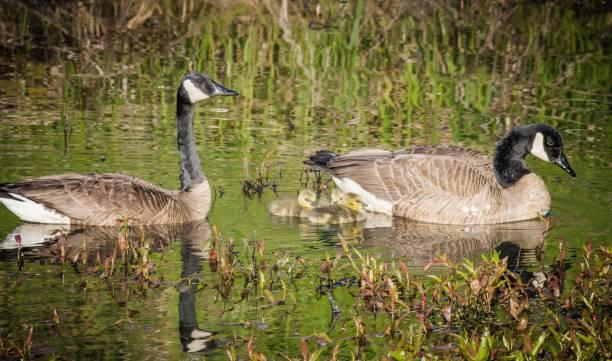Canadian-Goose: (1, 69, 221, 226), (307, 117, 572, 221), (310, 195, 364, 225), (269, 187, 315, 216)
